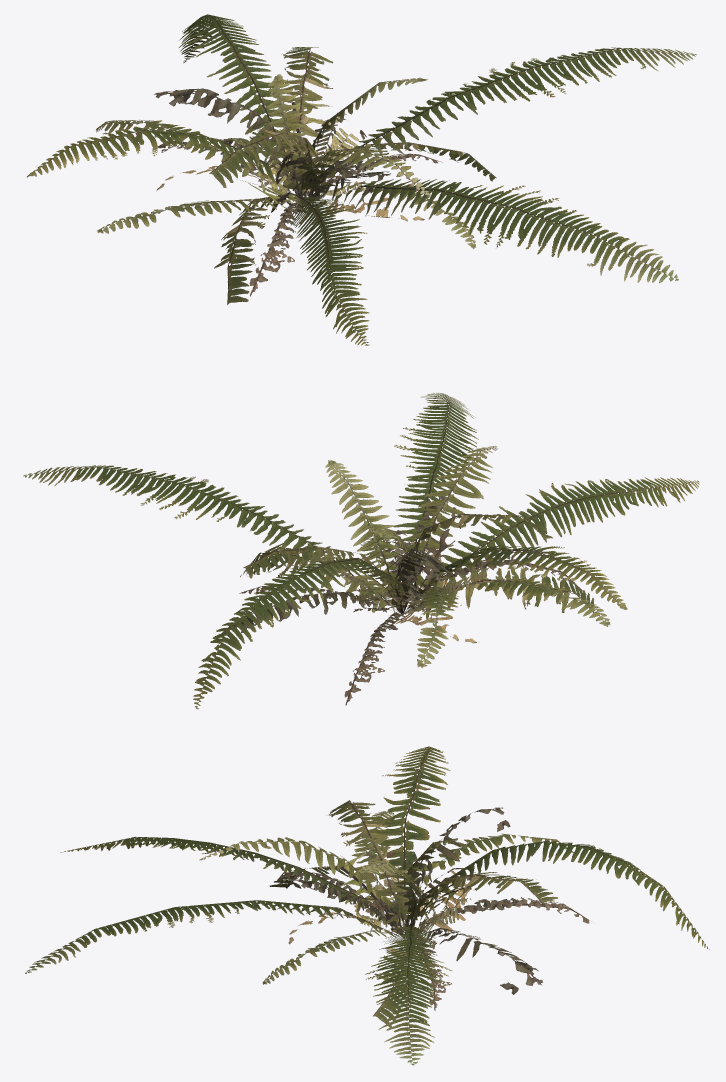
Rendered from SM_Plant_Forest_09.fbx.
The picture shows the model from 3 angles, top to bottom: view 1: azimuth 30°, elevation 25°; view 2: azimuth 150°, elevation 25°; view 3: azimuth 270°, elevation 25°; orthographic projection. The views are drawn at different scales.
Visible parts, largest first — view 1: SM_Plant_Forest_09; view 2: SM_Plant_Forest_09; view 3: SM_Plant_Forest_09.
Part boxes in pixels (bbox=[...]): SM_Plant_Forest_09: bbox=[27, 14, 696, 345]; SM_Plant_Forest_09: bbox=[23, 392, 699, 709]; SM_Plant_Forest_09: bbox=[25, 746, 709, 1065].
Bounding box in the file's own units: 142 × 142 × 28.4.
1 material, 1 textured.
